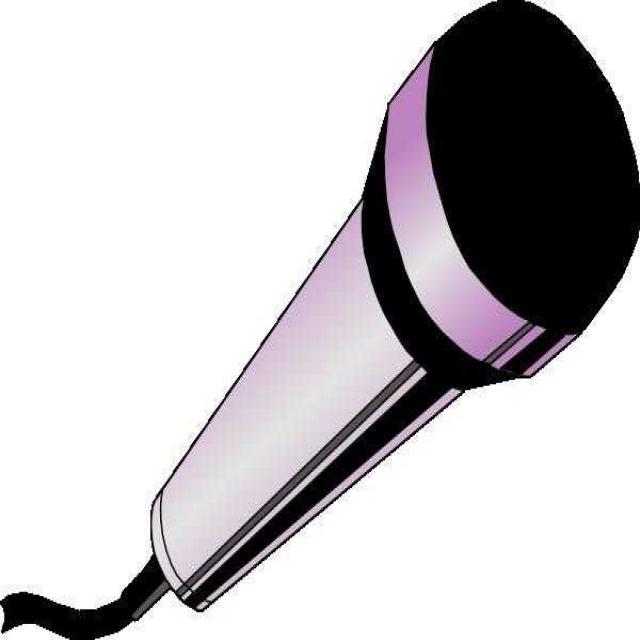microphone: (152, 0, 640, 613)
